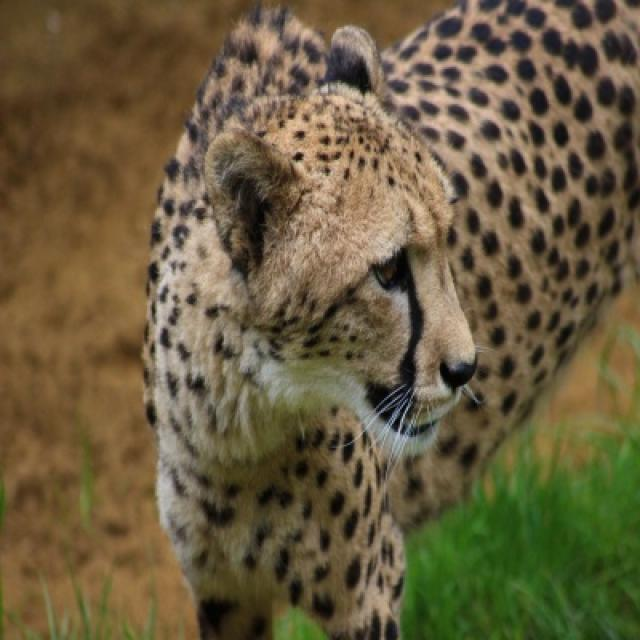Cheetah: (144, 0, 638, 638)
